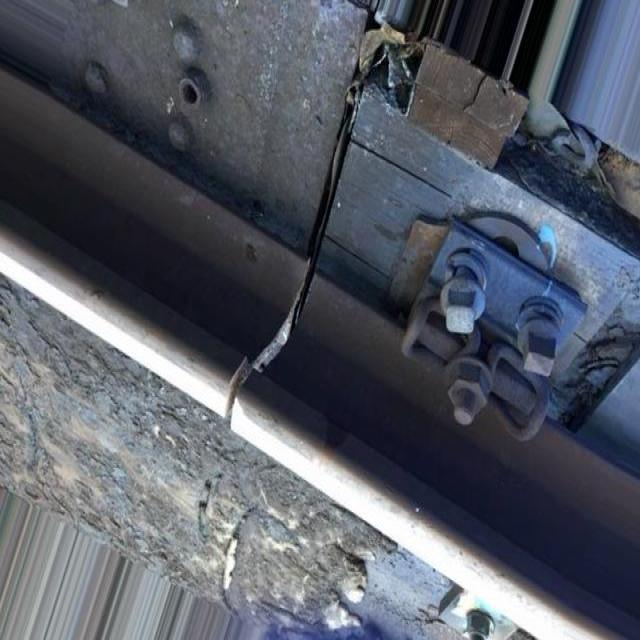crack: (186, 0, 440, 458)
